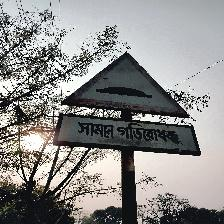Speed-breaker: (55, 51, 198, 156)
